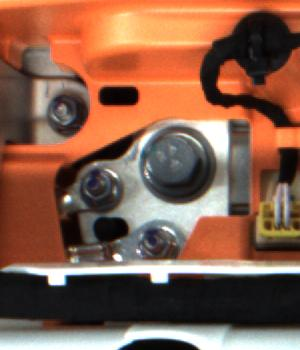screw_s: (73, 167, 128, 206), (40, 91, 85, 132), (136, 225, 180, 262)
